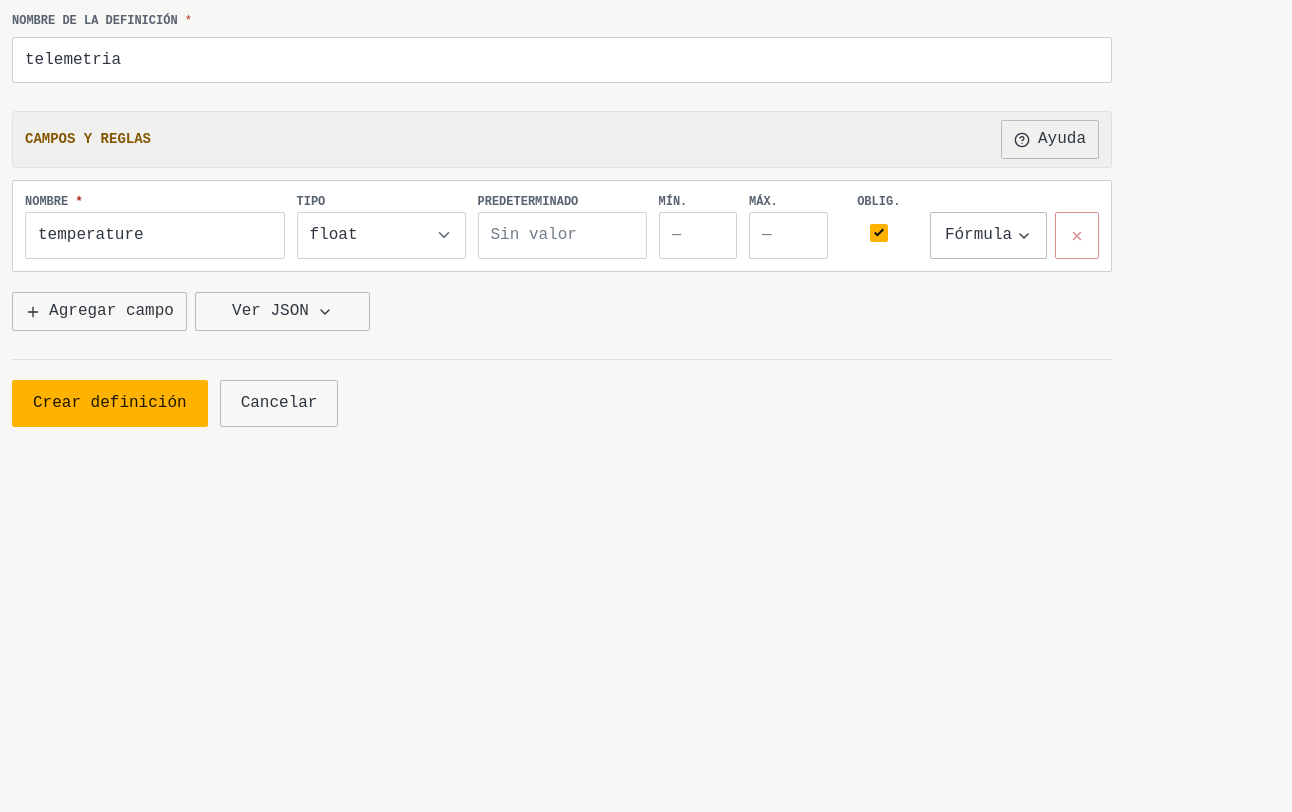
Scenario: SchemaBuilder › despliega la vista JSON a todo el ancho debajo de las acciones
What coordinates should you click on to do the following:
click the button "Ver JSON"
I would click on:
 (282, 312)
Its box is [195,292,370,331].
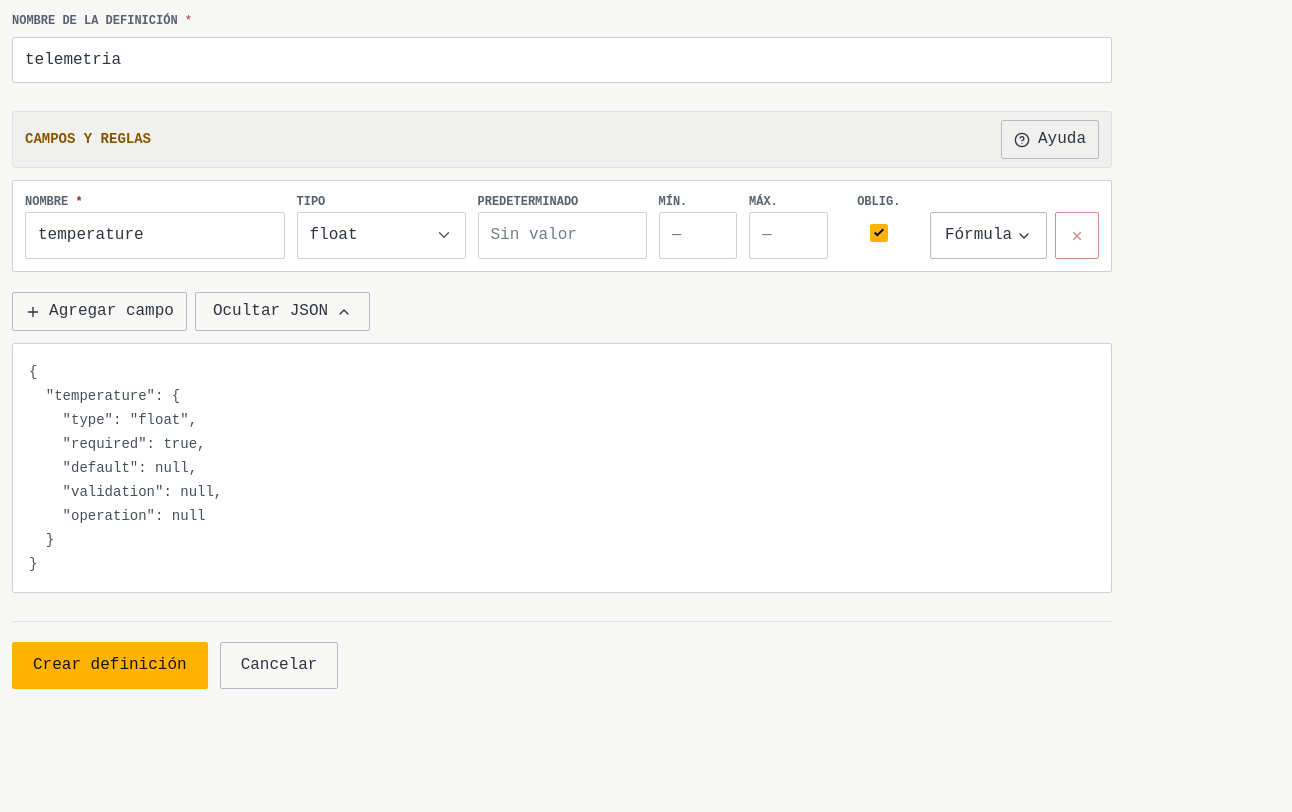
Expected: the button "Ocultar JSON" is expanded, [195,292,370,331]
Expected: the text "\"temperature\"" is shown, [29,364,222,572]
